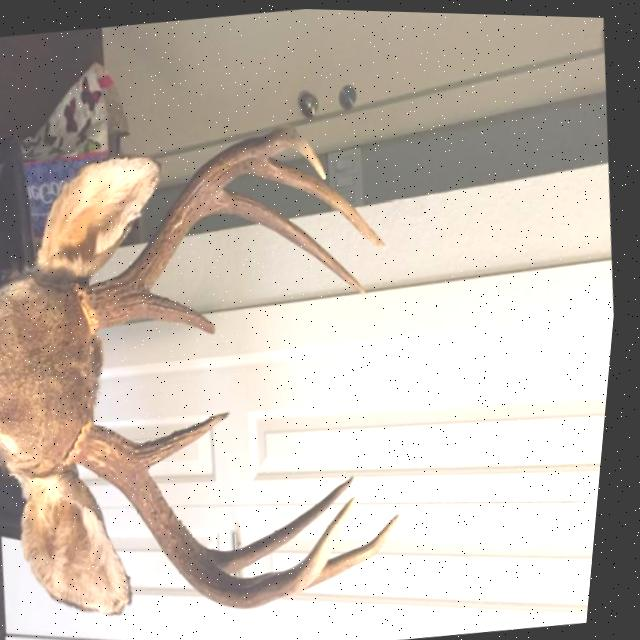L-F: (88, 123, 328, 328)
L-G1: (132, 288, 220, 333)
L-G2: (207, 186, 371, 294)
L-G3: (248, 155, 389, 246)
R-F: (82, 423, 364, 607)
R-G1: (144, 409, 237, 468)
R-G2: (216, 473, 361, 571)
